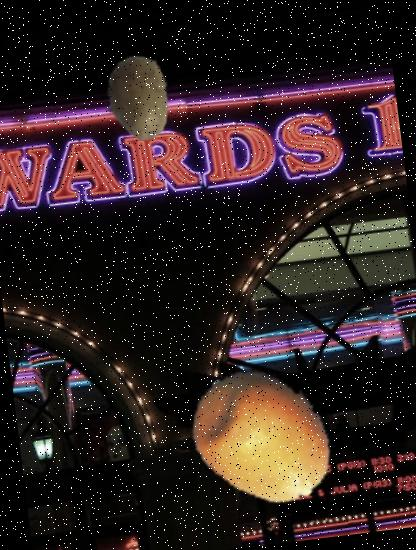Kumquats: (180, 356, 344, 520)
Potato: (90, 50, 186, 146)
